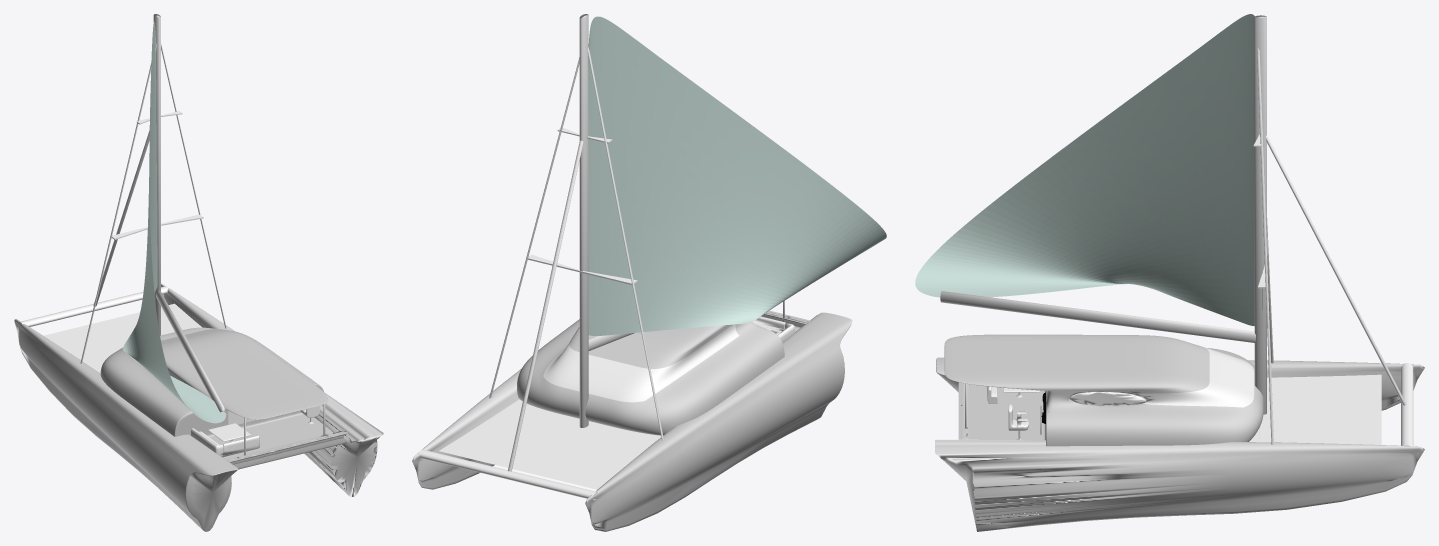
Rendered from yacht-sailboat-pbr.glb.
3 renders of one model, left to right at view 1: azimuth 30°, elevation 25°; view 2: azimuth 150°, elevation 25°; view 3: azimuth 270°, elevation 25°, orthographic. The views are drawn at different scales.
Visible parts, largest first — view 1: Cube_1, Cylinder.001_10, Plane.001_7, Cylinder_0, Plane_2, Cylinder.002_3, Cylinder.005_6, Cylinder.004_5, Cube.007_39, Cylinder.020_36, Cylinder.006_8, Cylinder.019_35 (+1 smaller); view 2: Plane.001_7, Cube_1, Cylinder.001_10, Plane_2, Cylinder.002_3, Cylinder_0, Cylinder.005_6, Cylinder.006_8, Cylinder.020_36, Cylinder.019_35; view 3: Plane.001_7, Cylinder_0, Cube_1, Plane_2, Cylinder.002_3, Cylinder.004_5, Cylinder.001_10, Cylinder.019_35, Cylinder.006_8, Cylinder.005_6.
Part boxes in pixels (left/top/right/bottom): Cube_1: left=100, top=327, right=347, bottom=469; Cylinder.001_10: left=14, top=319, right=237, bottom=531; Plane.001_7: left=123, top=21, right=226, bottom=423; Cylinder_0: left=161, top=283, right=383, bottom=497; Plane_2: left=43, top=303, right=202, bottom=372; Cylinder.002_3: left=153, top=14, right=160, bottom=335; Cylinder.005_6: left=18, top=286, right=168, bottom=327; Cylinder.004_5: left=156, top=290, right=225, bottom=412; Cube.007_39: left=191, top=428, right=259, bottom=457; Cylinder.020_36: left=80, top=42, right=156, bottom=363; Cylinder.006_8: left=93, top=130, right=149, bottom=306; Cylinder.019_35: left=161, top=43, right=226, bottom=328; Plane.001_7: left=588, top=16, right=886, bottom=335; Cube_1: left=517, top=310, right=810, bottom=435; Cylinder.001_10: left=585, top=312, right=852, bottom=531; Plane_2: left=439, top=399, right=661, bottom=489; Cylinder.002_3: left=579, top=14, right=588, bottom=427; Cylinder_0: left=412, top=368, right=521, bottom=489; Cylinder.005_6: left=419, top=449, right=597, bottom=500; Cylinder.006_8: left=508, top=140, right=583, bottom=471; Cylinder.020_36: left=588, top=46, right=663, bottom=440; Cylinder.019_35: left=489, top=57, right=579, bottom=398; Plane.001_7: left=915, top=14, right=1262, bottom=325; Cylinder_0: left=935, top=439, right=1424, bottom=531; Cube_1: left=944, top=334, right=1263, bottom=446; Plane_2: left=1249, top=374, right=1381, bottom=444; Cylinder.002_3: left=1254, top=15, right=1266, bottom=414; Cylinder.004_5: left=940, top=291, right=1255, bottom=342; Cylinder.001_10: left=936, top=357, right=1424, bottom=410; Cylinder.019_35: left=1257, top=48, right=1273, bottom=444; Cylinder.006_8: left=1265, top=135, right=1406, bottom=405; Cylinder.005_6: left=1401, top=363, right=1413, bottom=446.
Size of the model in its own units: 19.95 by 36.76 by 35.89.
